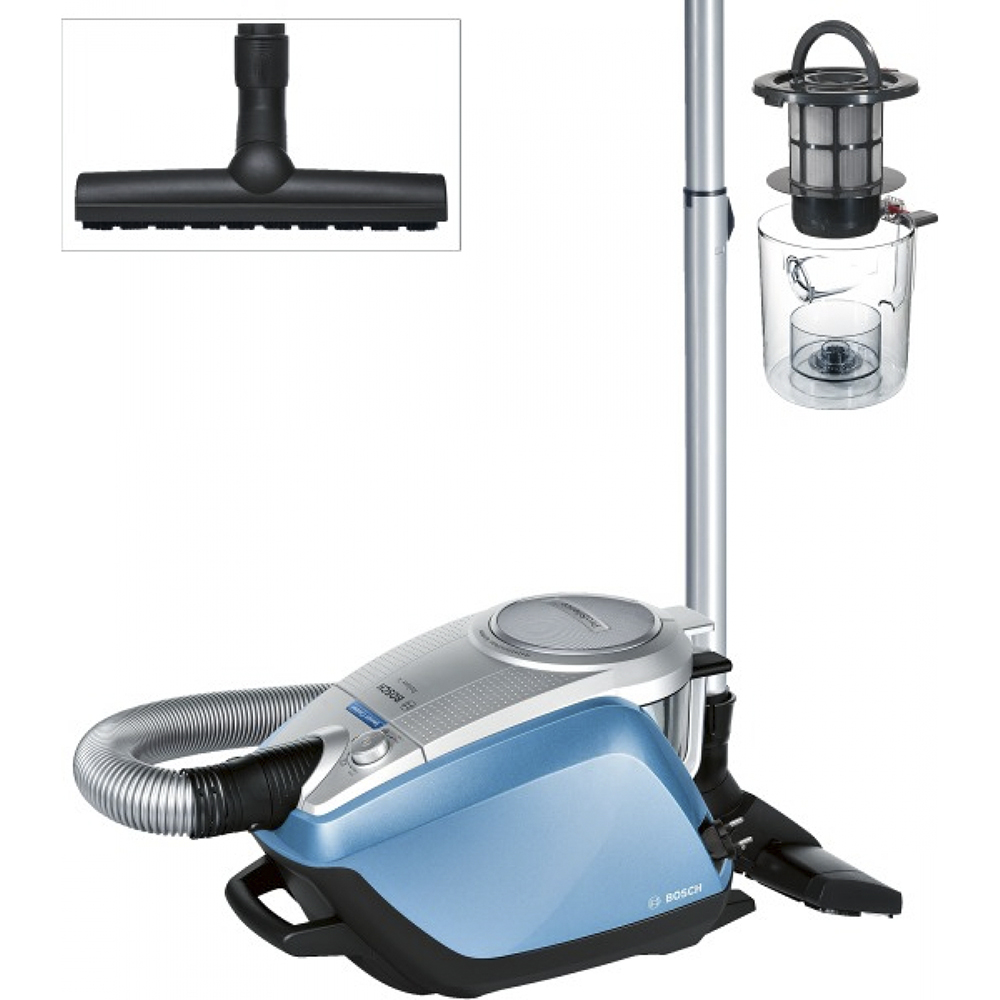Bosch: (657, 881, 706, 908), (374, 678, 406, 710)
